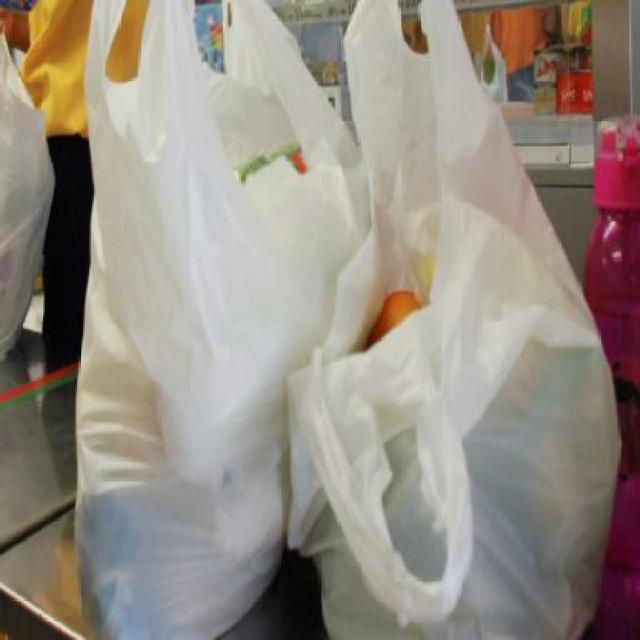plastic bag: (290, 0, 621, 638), (75, 0, 369, 638)
